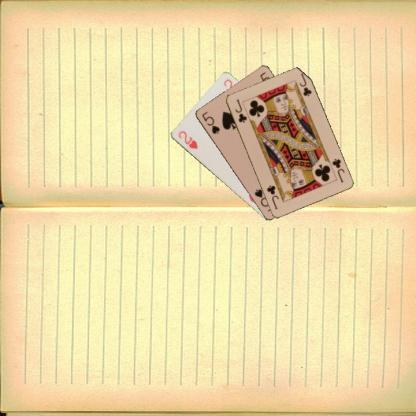2h: (176, 128, 198, 150)
5s: (198, 109, 221, 135)
Jc: (329, 155, 346, 184), (232, 96, 248, 124)
